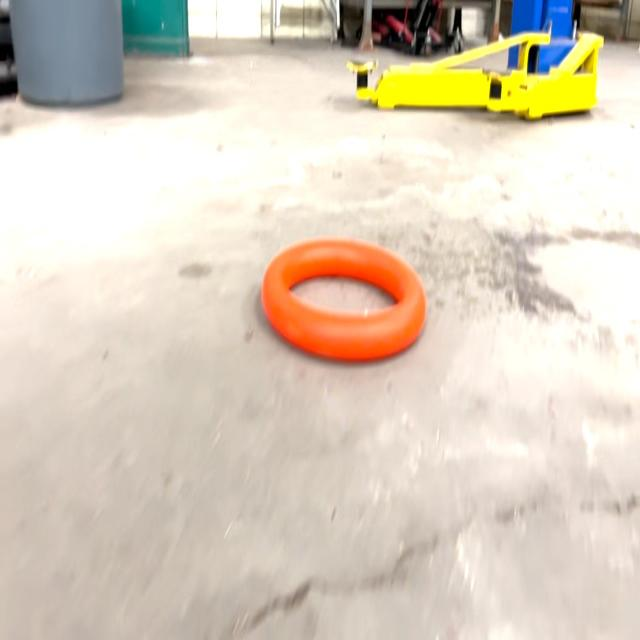note: (258, 235, 428, 366)
